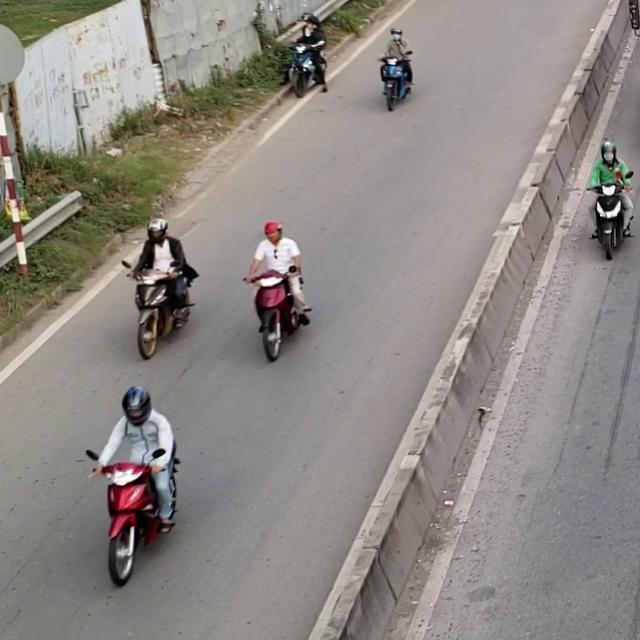Motorcycle: (84, 444, 179, 587), (120, 258, 195, 359), (242, 265, 311, 362), (585, 170, 635, 260), (285, 40, 327, 98), (377, 50, 413, 111)
